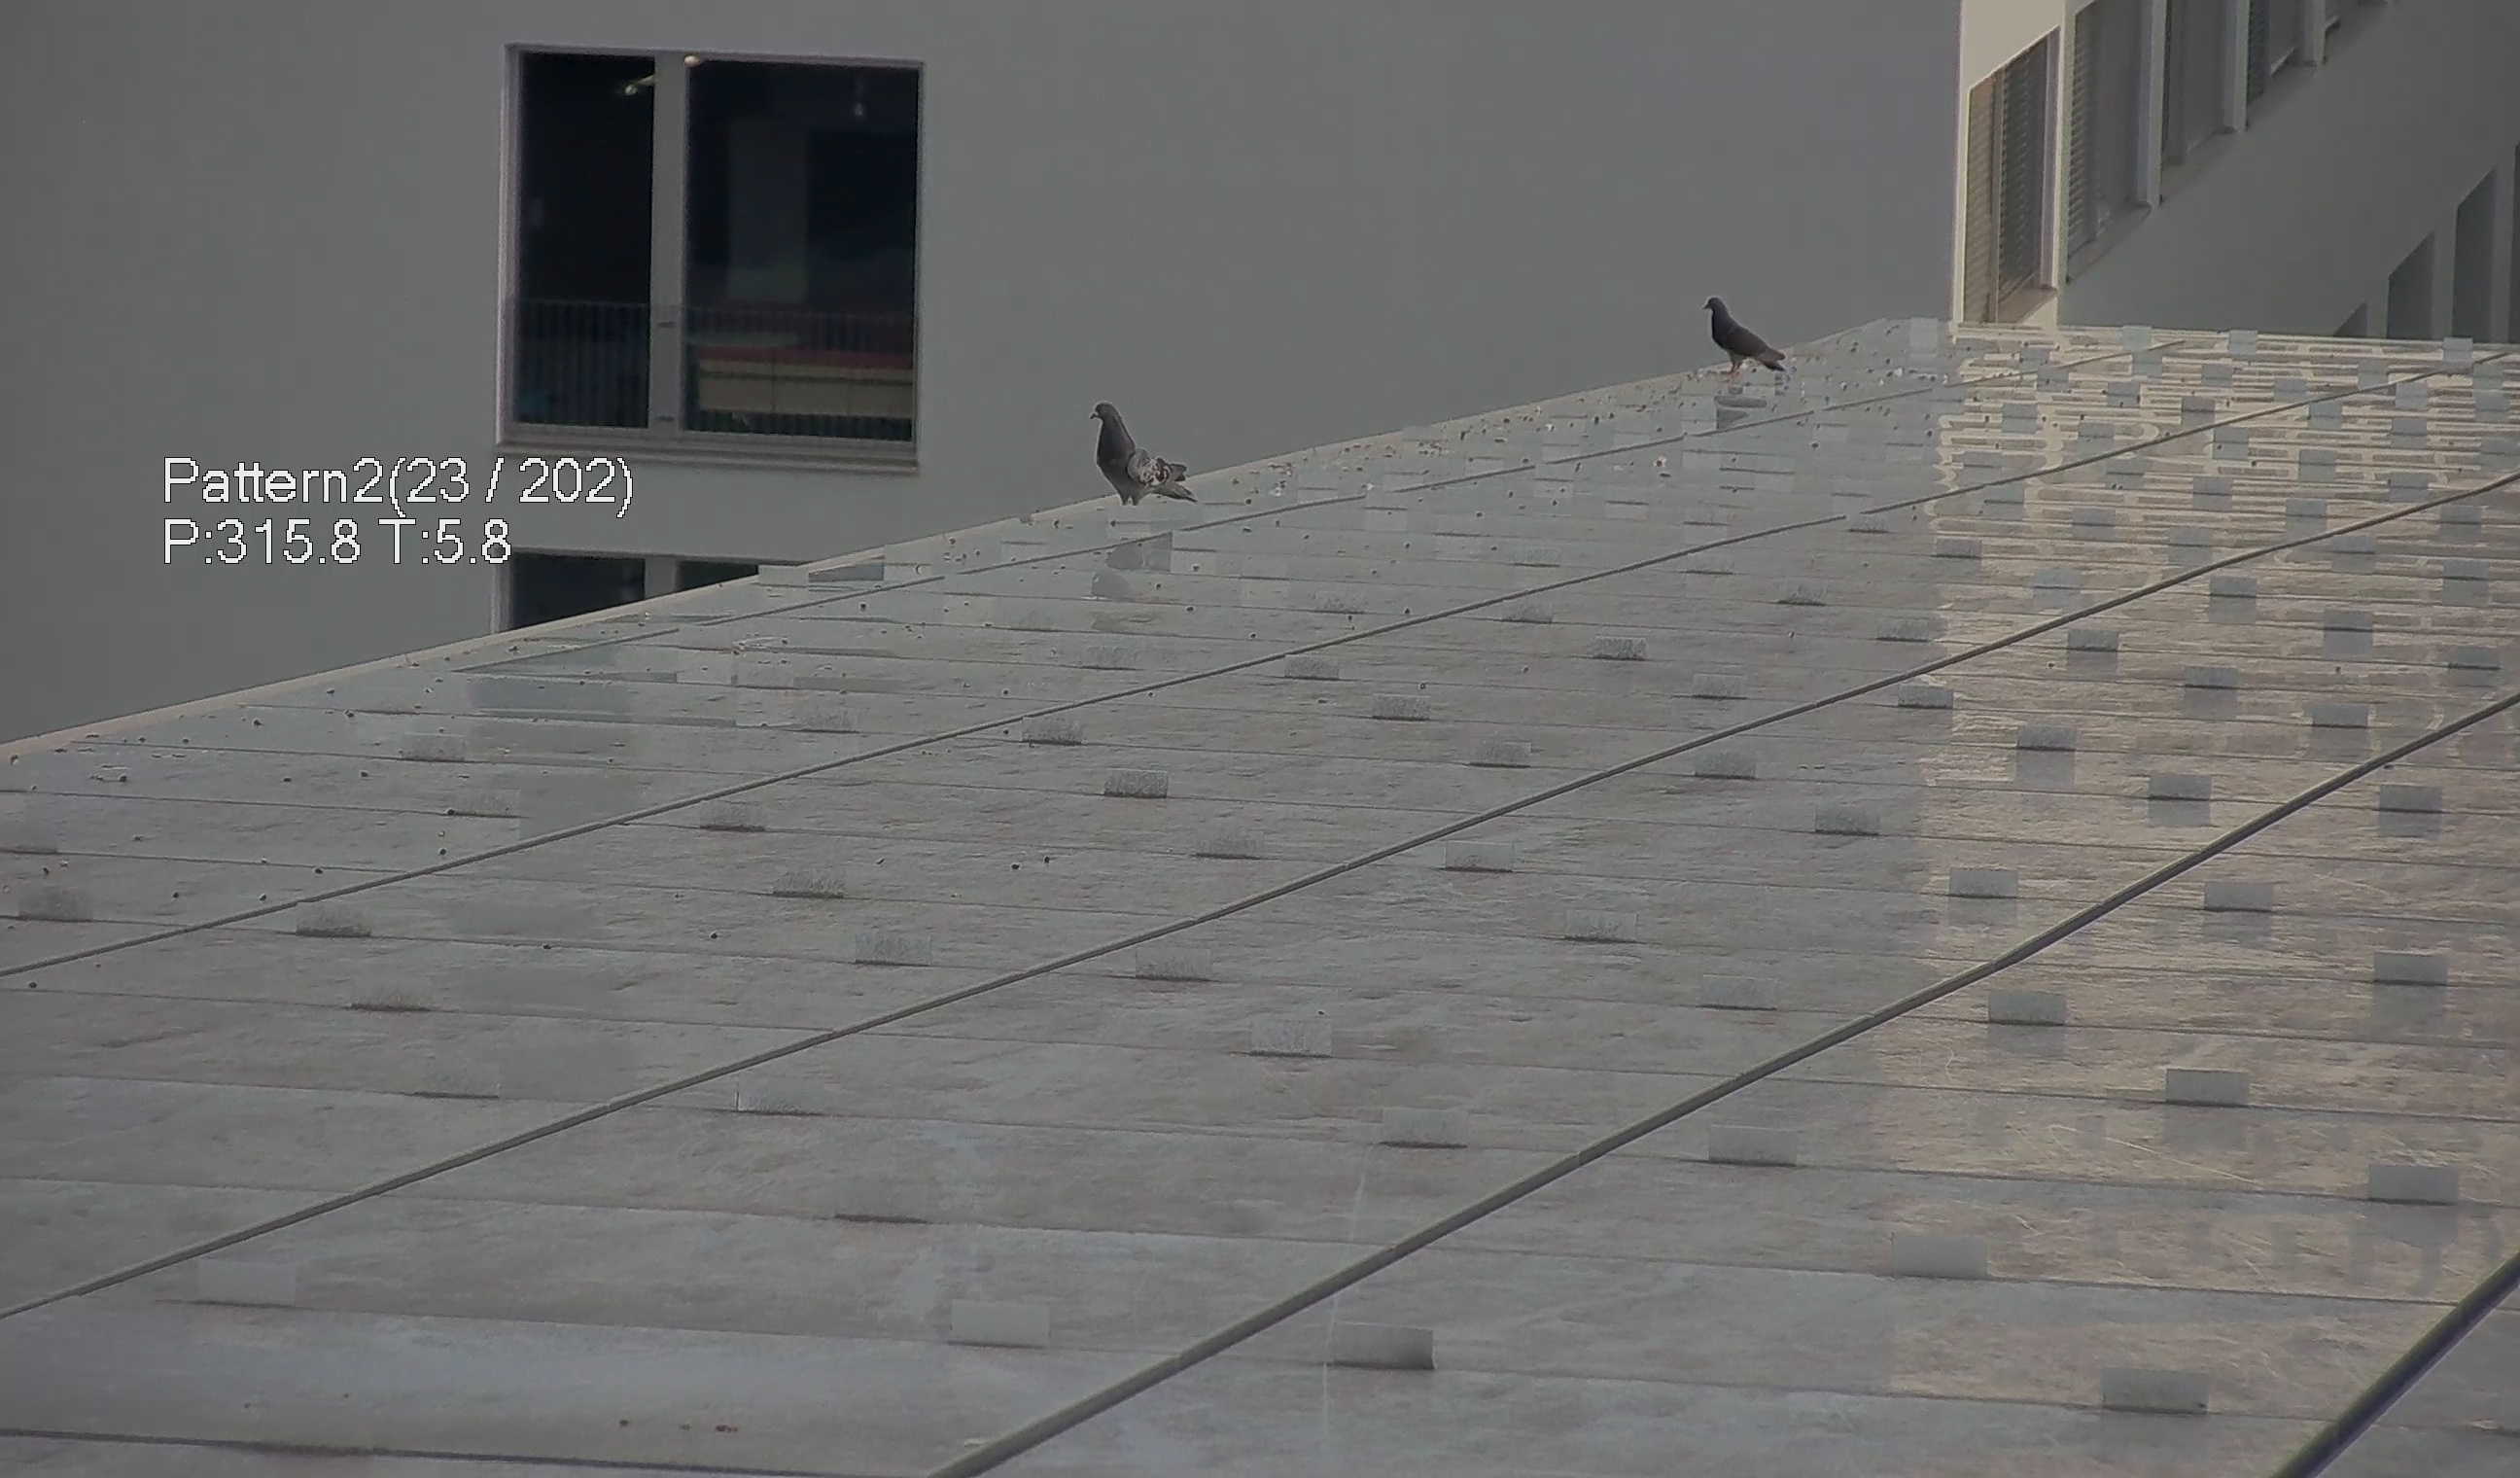Pigeon: (1078, 385, 1201, 512), (1697, 278, 1813, 384)
